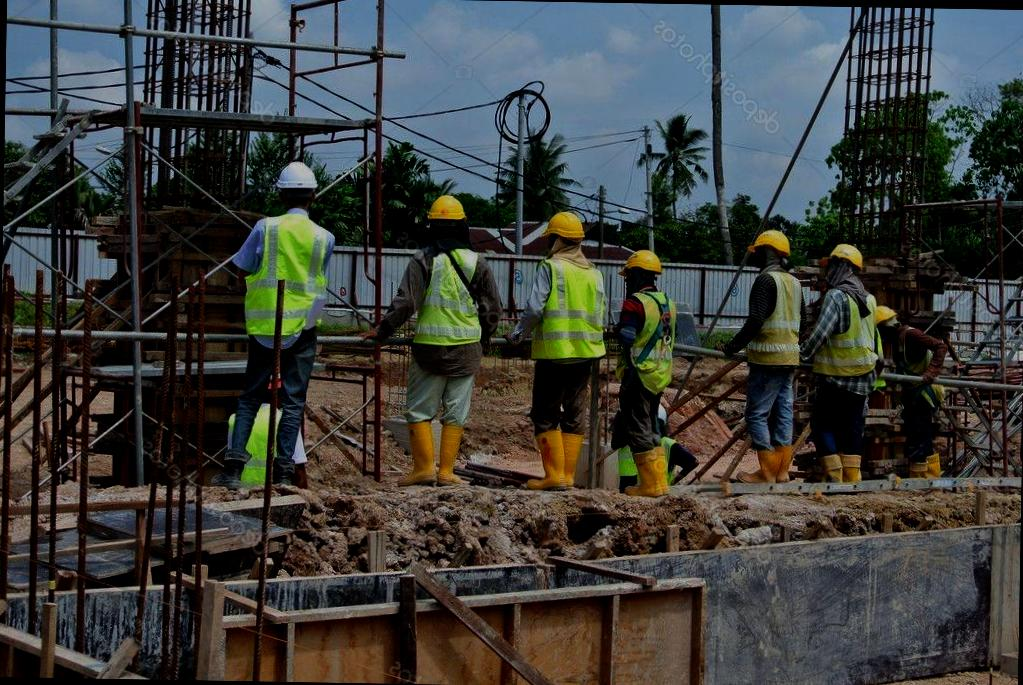helmet: (268, 154, 322, 203), (422, 194, 469, 230), (824, 238, 868, 272)
person: (218, 154, 332, 498), (384, 189, 502, 491), (494, 208, 608, 502), (809, 230, 900, 484), (725, 227, 806, 483), (606, 247, 678, 494)
